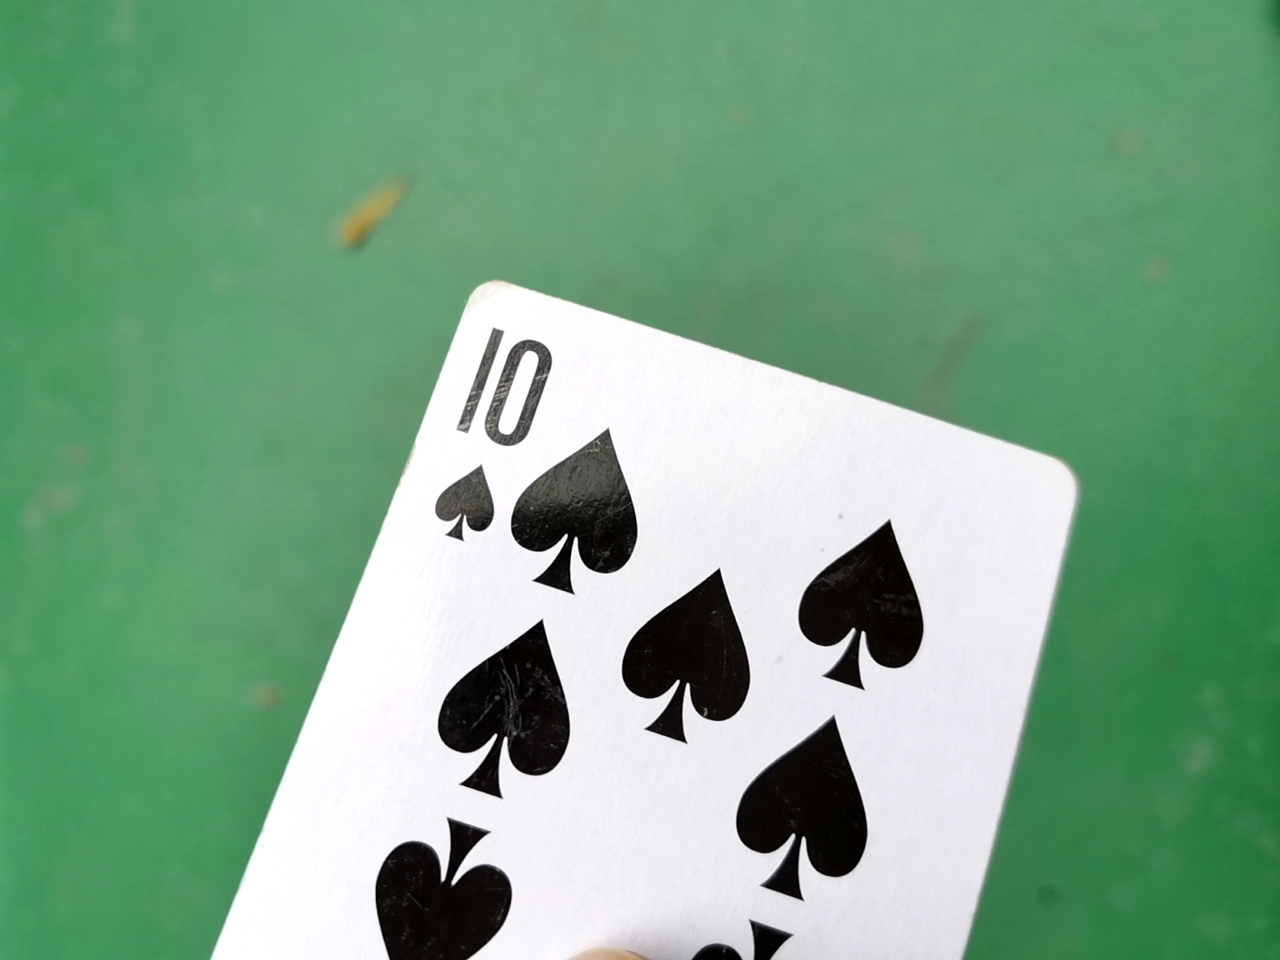ht 10: (101, 264, 1089, 960)
